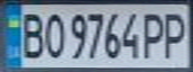4: (118, 8, 145, 60)
6: (103, 9, 124, 60)
7: (84, 9, 106, 60)
9: (66, 9, 87, 60)
B: (15, 9, 48, 60)
O: (39, 9, 69, 60)
P: (160, 8, 190, 60), (139, 9, 169, 60)
